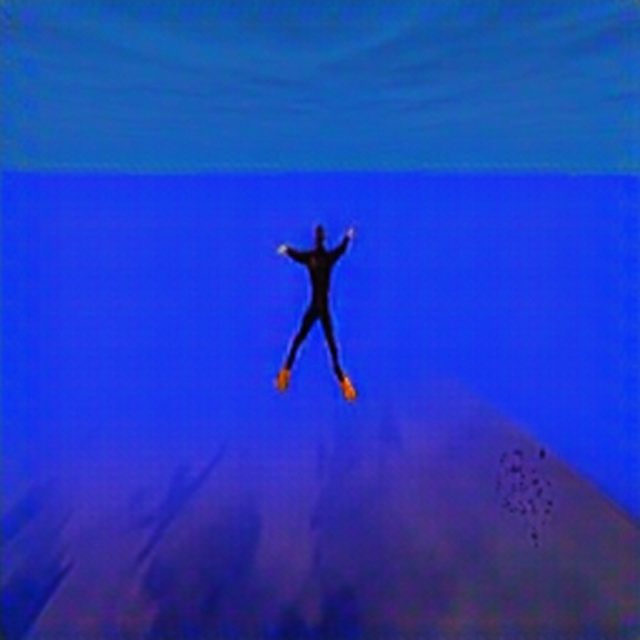diver: (272, 218, 360, 404)
